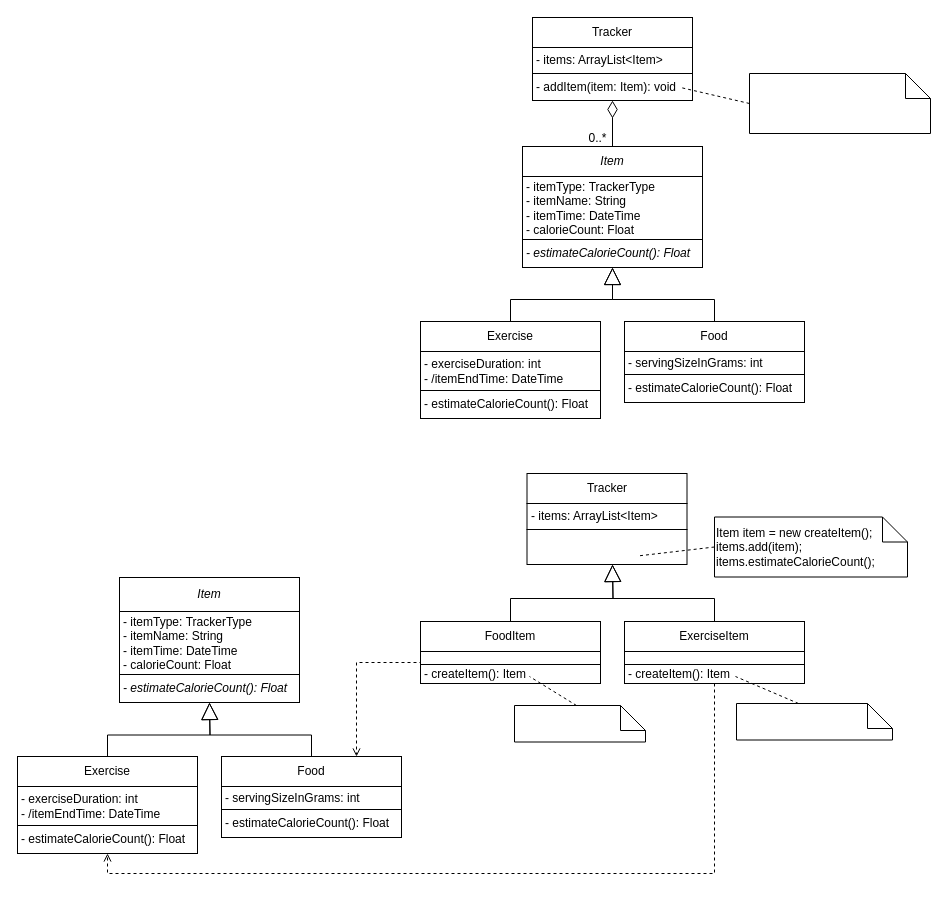
This 948x899 diagram has some shape labels left out. Each missing label, with the centre of its shape:
- addItem(item: Item): void - createItem(): Item: point 606,546
Item item = new Item(); items.add(item); items.estimateCalorieCount();: point 839,103
return new Exercise();: point 814,721
return new Food();: point 580,723
